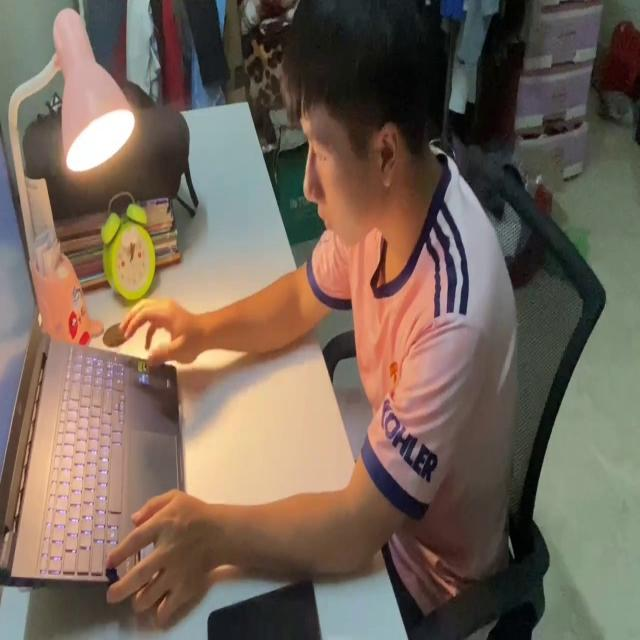laptop: (1, 121, 190, 594)
phone: (206, 570, 321, 640)
student: (104, 1, 518, 629)
